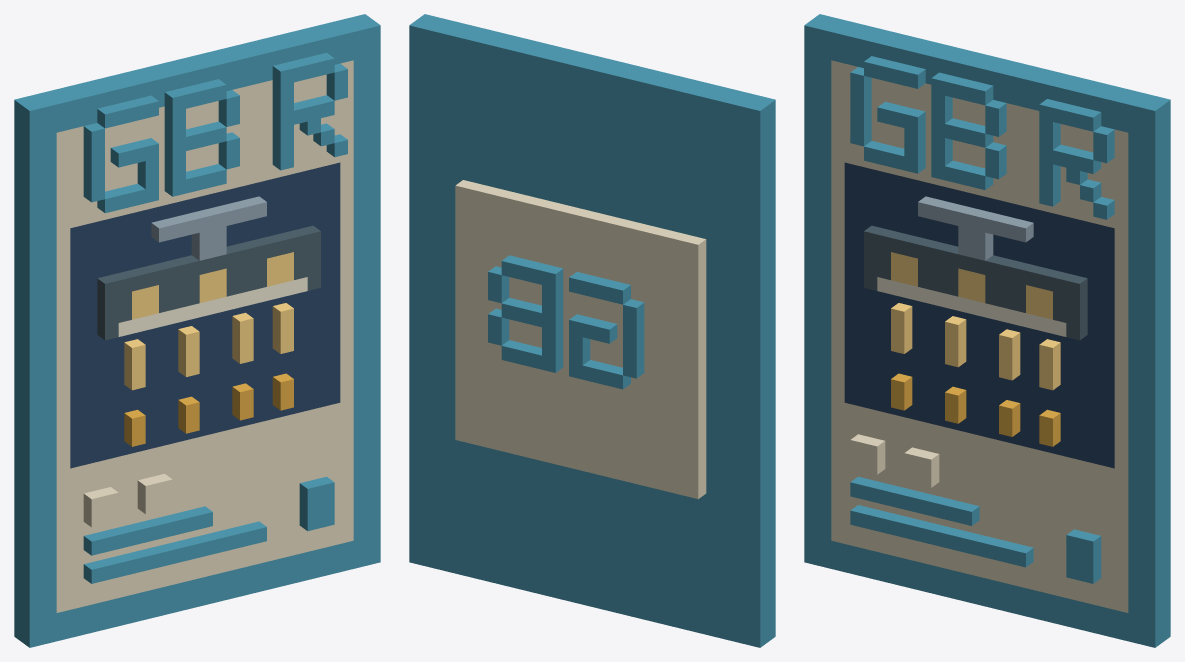
Rendered from card_rare.glb.
3 views of the same model, side by side, from view 1: azimuth 30°, elevation 25°; view 2: azimuth 150°, elevation 25°; view 3: azimuth 330°, elevation 25° (orthographic).
Parts seen in each view (by area): view 1: card_rare; view 2: card_rare; view 3: card_rare.
Part boxes in pixels (left/top/right/bottom): card_rare: left=14, top=14, right=380, bottom=647; card_rare: left=409, top=14, right=775, bottom=647; card_rare: left=804, top=14, right=1170, bottom=647.
Bounding box in the file's own units: 1.3 × 1.9 × 0.25.
1 material, 1 textured.
